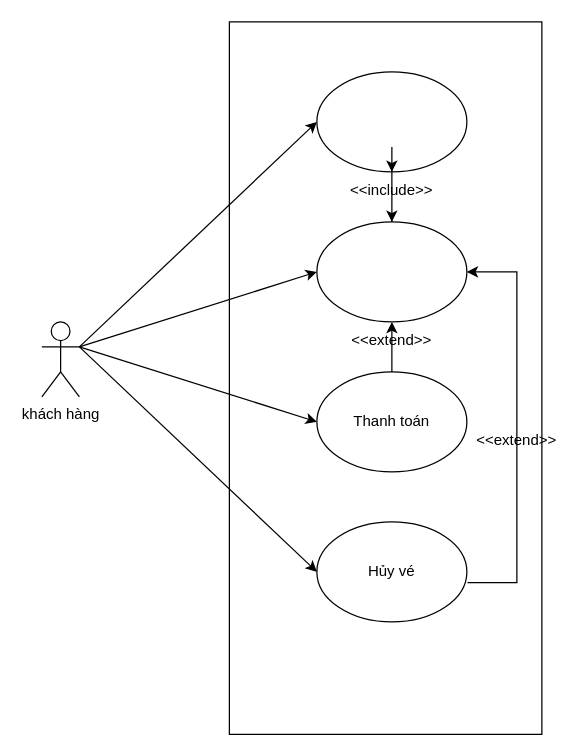
Image size: 578x756. Some labels were removed from this diagram. Each missing label, with the box of its shape:
Chọn ghế: (316, 221, 467, 322)
Đặt chỗ: (316, 71, 467, 172)
